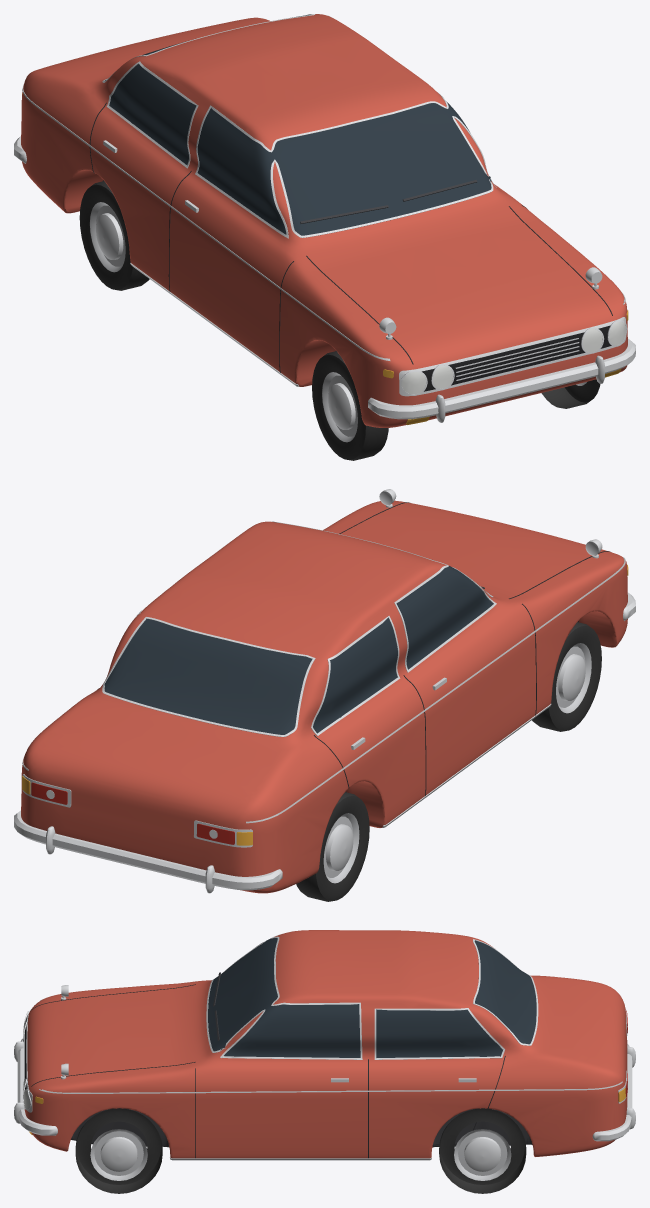
The model's file is datsun510.glb.
The picture shows the model from 3 angles, top to bottom: view 1: azimuth 30°, elevation 25°; view 2: azimuth 150°, elevation 25°; view 3: azimuth 270°, elevation 25°; orthographic projection. The views are drawn at different scales.
Visible parts, largest first — view 1: paint, glass, trim, wheel_fr, wheel_rr, headlights, wheel_fl; view 2: paint, glass, trim, wheel_rr, wheel_fr, taillights; view 3: paint, glass, trim, wheel_rl, wheel_fl.
Part boxes in pixels (x1=…): paint: x1=21, y1=14, x2=627, y2=427; glass: x1=105, y1=15, x2=491, y2=235; trim: x1=14, y1=14, x2=635, y2=422; wheel_fr: x1=312, y1=351, x2=388, y2=460; wheel_rr: x1=79, y1=181, x2=149, y2=290; headlights: x1=401, y1=322, x2=626, y2=394; wheel_fl: x1=541, y1=379, x2=600, y2=408; paint: x1=21, y1=500, x2=627, y2=893; glass: x1=104, y1=566, x2=493, y2=734; trim: x1=14, y1=502, x2=635, y2=893; wheel_rr: x1=296, y1=792, x2=369, y2=901; wheel_fr: x1=532, y1=622, x2=601, y2=731; taillights: x1=31, y1=782, x2=234, y2=844; paint: x1=24, y1=930, x2=627, y2=1158; glass: x1=208, y1=938, x2=536, y2=1057; trim: x1=14, y1=934, x2=635, y2=1160; wheel_rl: x1=439, y1=1108, x2=526, y2=1193; wheel_fl: x1=75, y1=1108, x2=162, y2=1193.
Bounding box in the file's own units: 1.56 × 1.4 × 4.14.
